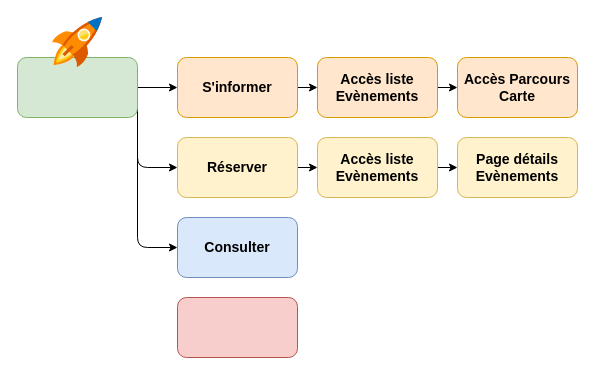
Image size: 595x375. Some labels were removed from this diagram. Here are the shapes that lost their labels. From the top down, the centre of each, then its label:
At (x=77, y=87): "Start (Landing Page)".
At (x=237, y=327): "Connexion".
